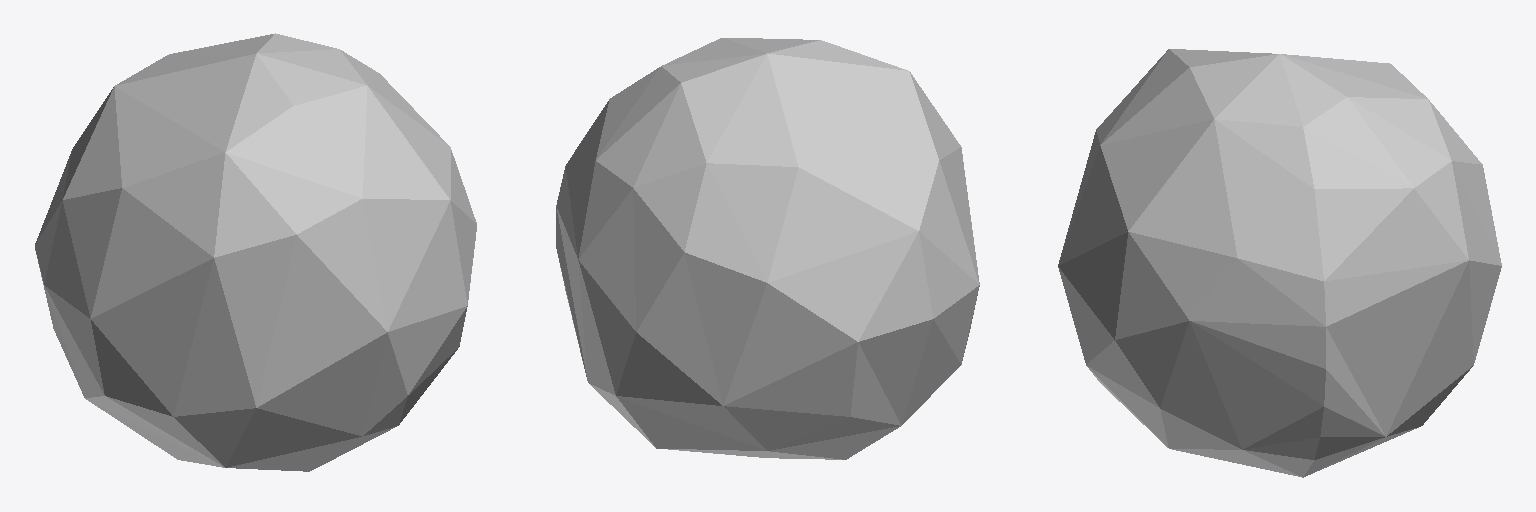
Rendered from SOARE.obj.
3 renders of one model, left to right at view 1: azimuth 30°, elevation 25°; view 2: azimuth 150°, elevation 25°; view 3: azimuth 270°, elevation 25°, orthographic.
Parts seen in each view (by area): view 1: Style_Sun_v1_001; view 2: Style_Sun_v1_001; view 3: Style_Sun_v1_001.
Part boxes in pixels (x1,y1,x2,y2): Style_Sun_v1_001: (35,33,476,471); Style_Sun_v1_001: (556,38,979,459); Style_Sun_v1_001: (1058,49,1501,477).
Bounding box in the file's own units: 7.88 × 8.08 × 8.04.